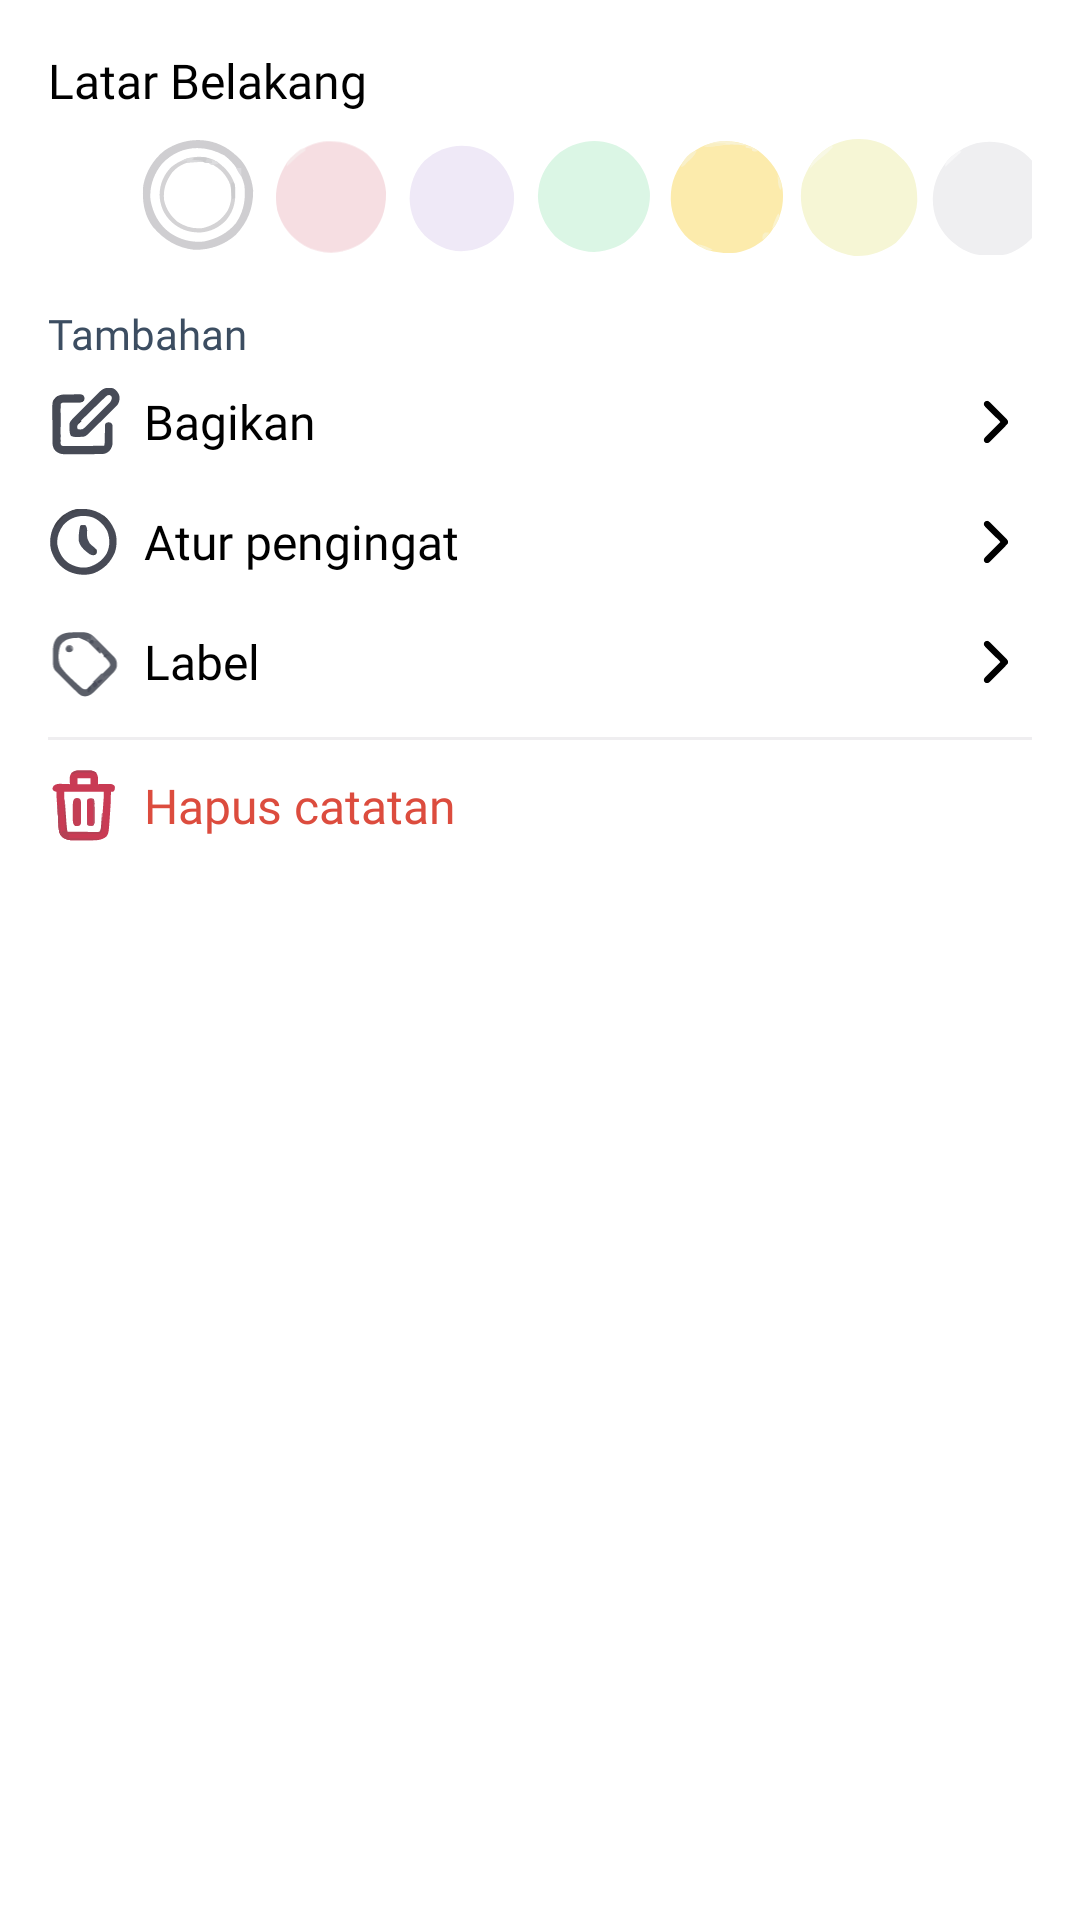

Icons on this 1080*1920 Android screen, each with the point to tap as point (x, y):
arrow right: point (996, 422), point (996, 542), point (996, 662)
delete: point (83, 805)
